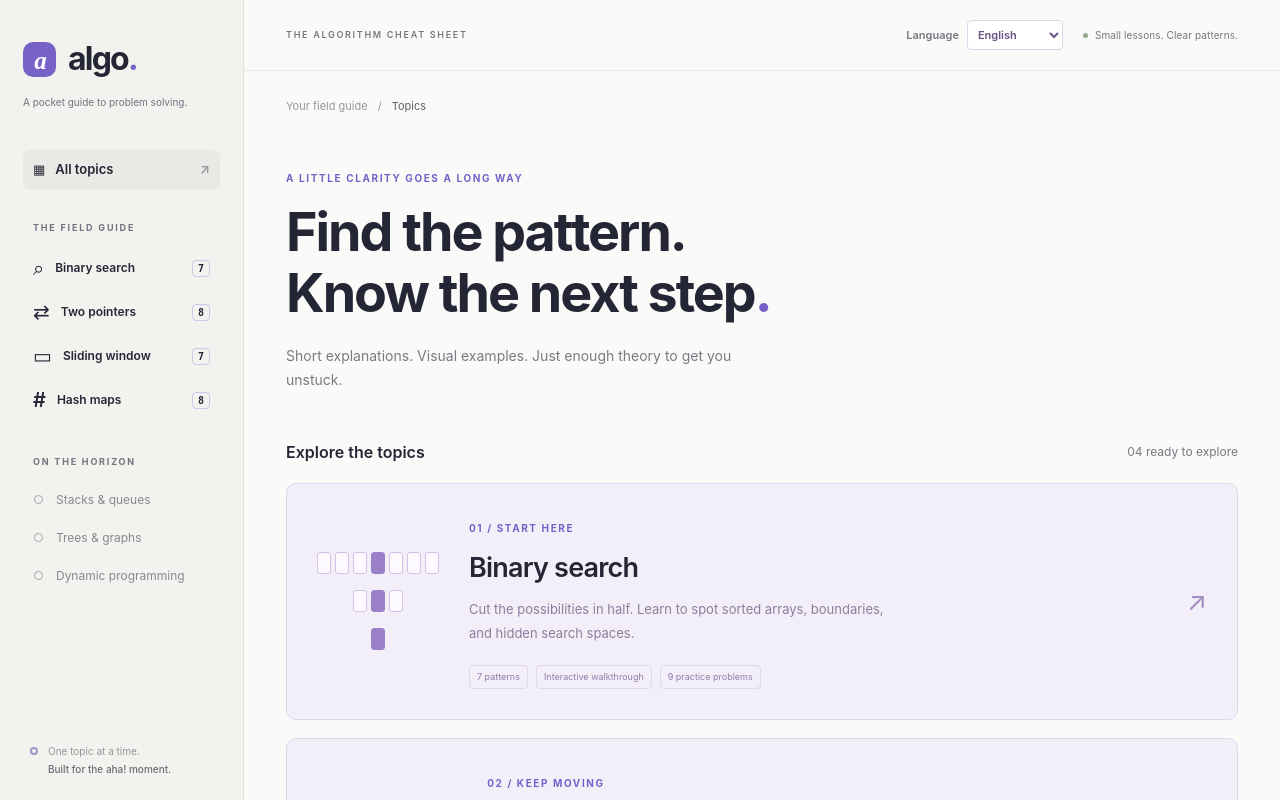
it: language selection › continues switching languages when storage is blocked
The image size is (1280, 800).
Select "Русский" in the dropdown labelled "Language" at [1015, 35], box [967,20,1063,50]
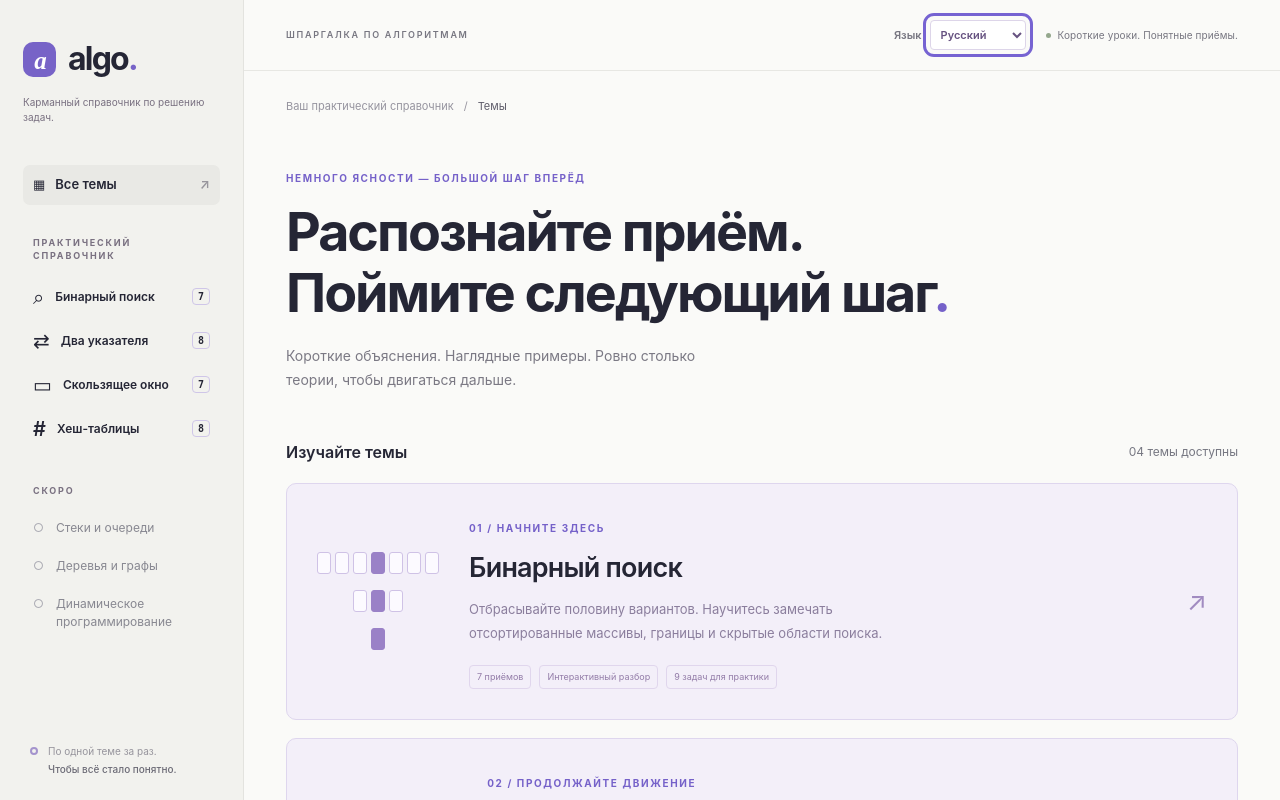
expect the heading "Изучайте темы" is shown: met, box [286,440,407,464]
